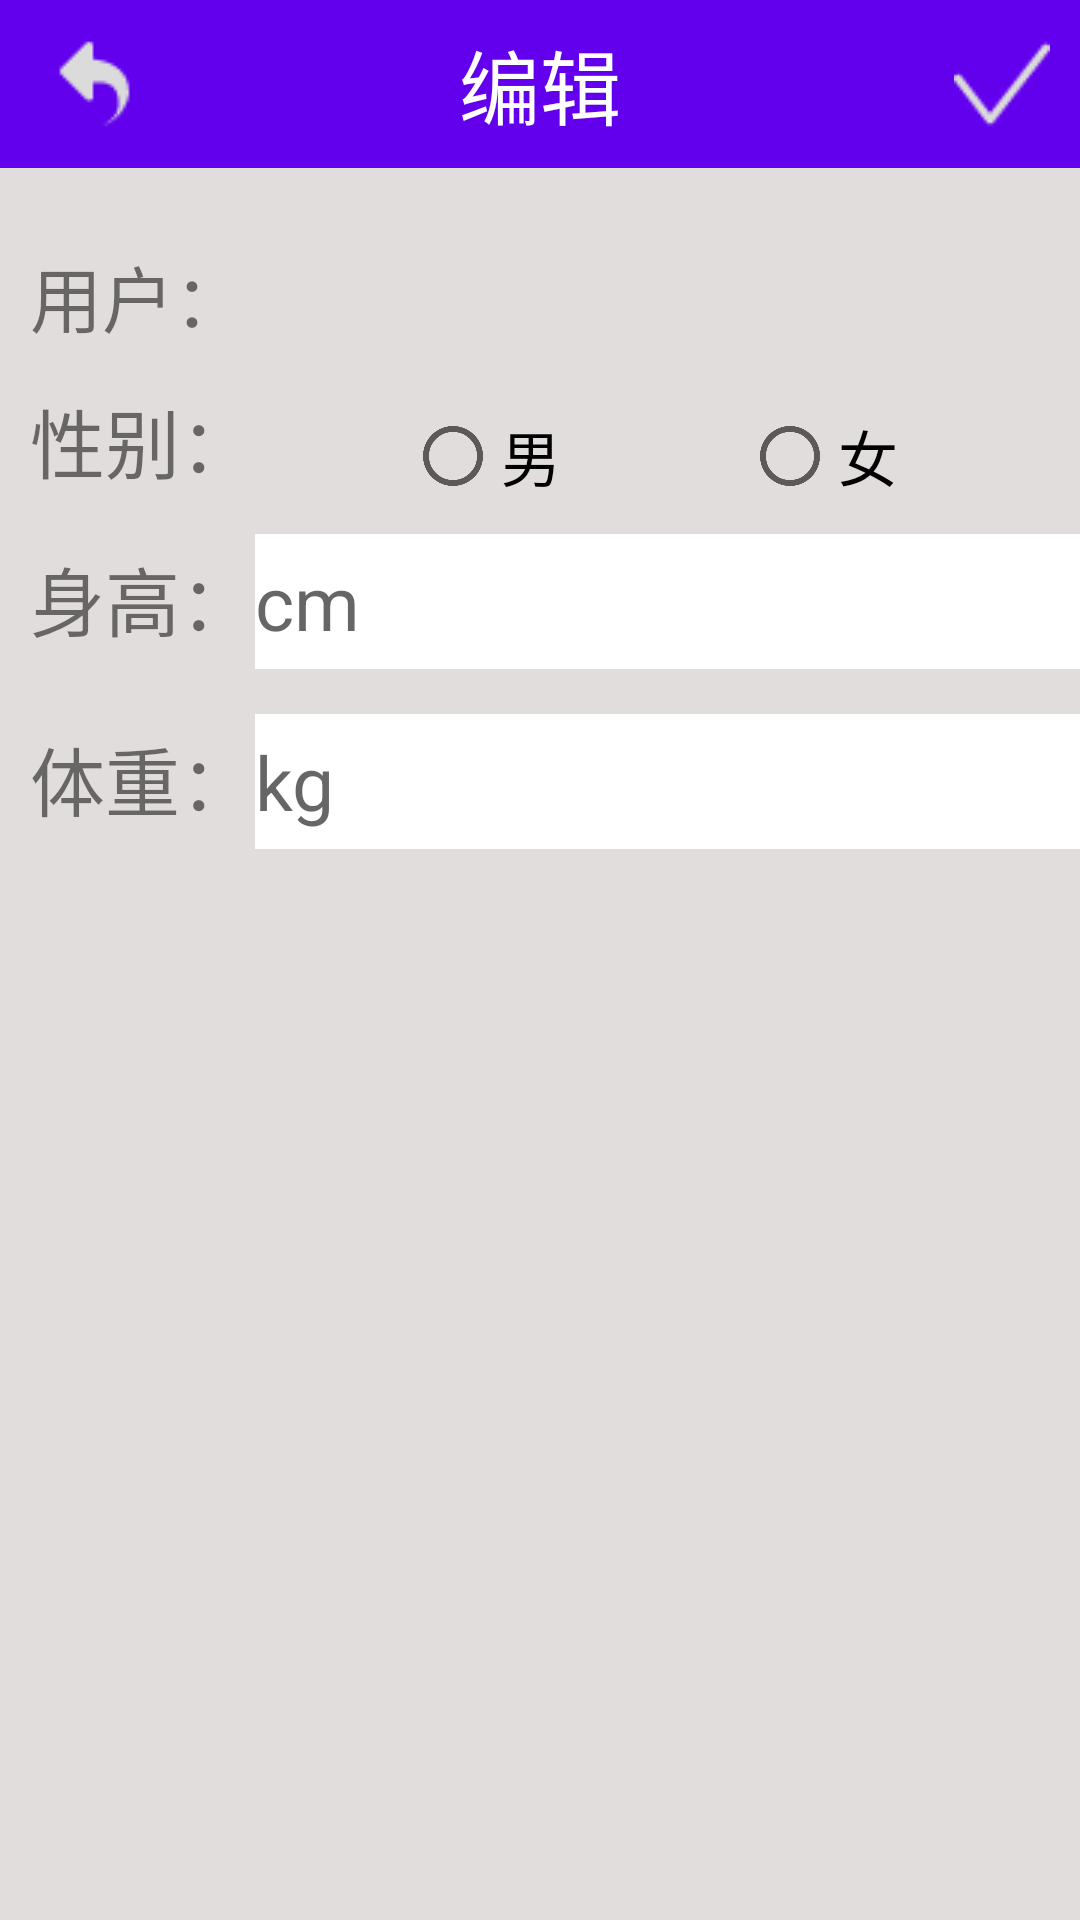

Named icons in this screenshot (1080w x 1920h) and their centers, (x=x, y=y):
cancel: (x=94, y=83)
sure: (x=1002, y=84)
